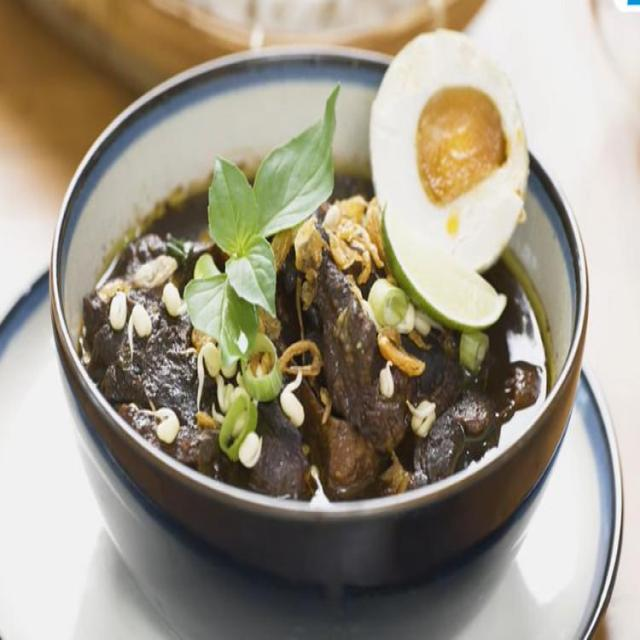Rawon: (84, 120, 540, 499)
